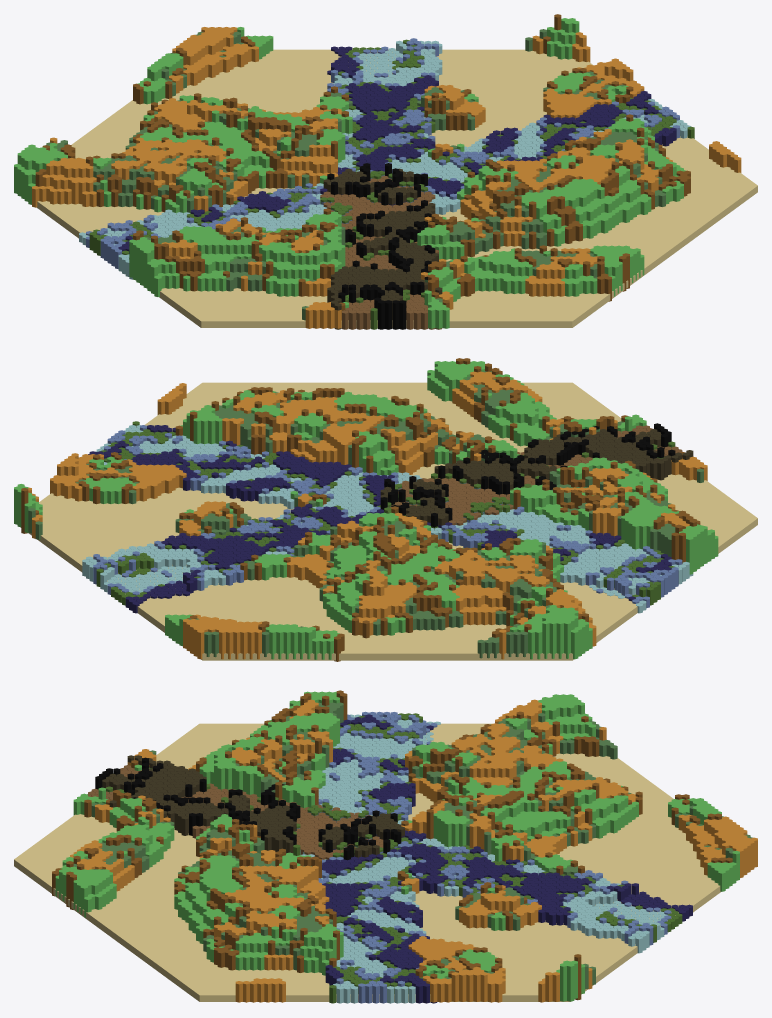
The model's file is 0054_tile_1102002.fbx.
3 renders of one model, top to bottom at view 1: azimuth 30°, elevation 25°; view 2: azimuth 150°, elevation 25°; view 3: azimuth 270°, elevation 25°, orthographic.
Parts seen in each view (by area): view 1: Plane; view 2: Plane; view 3: Plane.
Part boxes in pixels (x1,y1,x2,y2): Plane: (14,14,757,329); Plane: (14,358,757,661); Plane: (14,690,757,1003).
Bounding box in the file's own units: 1008 × 72.95 × 1152.
